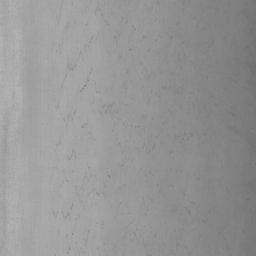Silk spot: (99, 103, 115, 115), (63, 110, 76, 122), (67, 149, 76, 160), (67, 63, 77, 71)
